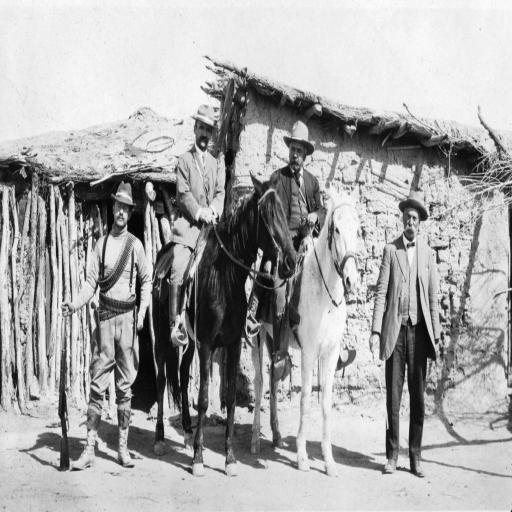horse: (152, 167, 298, 476), (248, 176, 360, 476)
